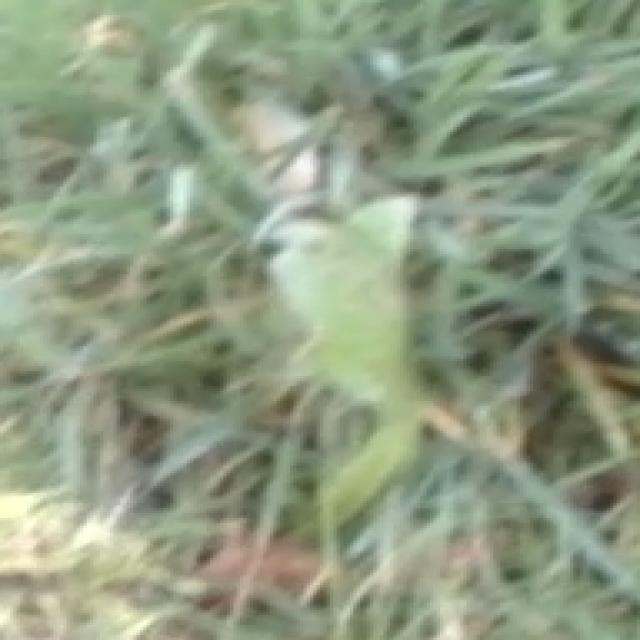organic waste: (132, 156, 565, 494)
